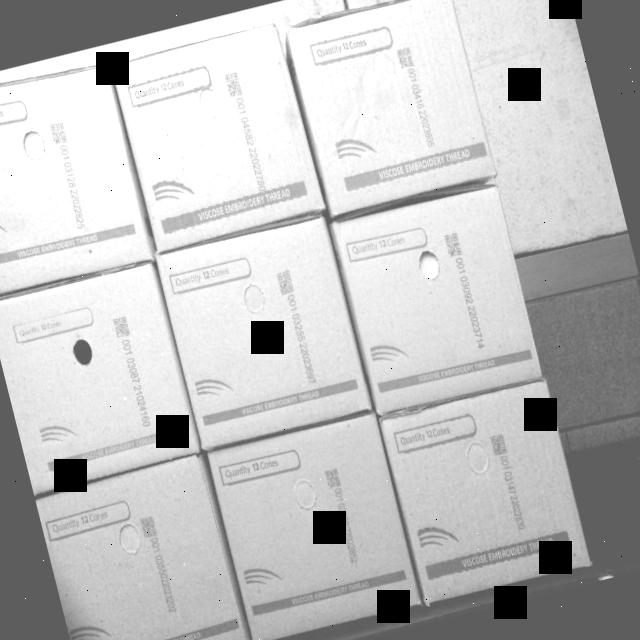box: (154, 212, 370, 446), (203, 408, 418, 640), (328, 182, 540, 416), (382, 379, 594, 607), (112, 20, 322, 248), (285, 0, 497, 217), (0, 263, 199, 491), (34, 454, 250, 640), (0, 55, 154, 302)
